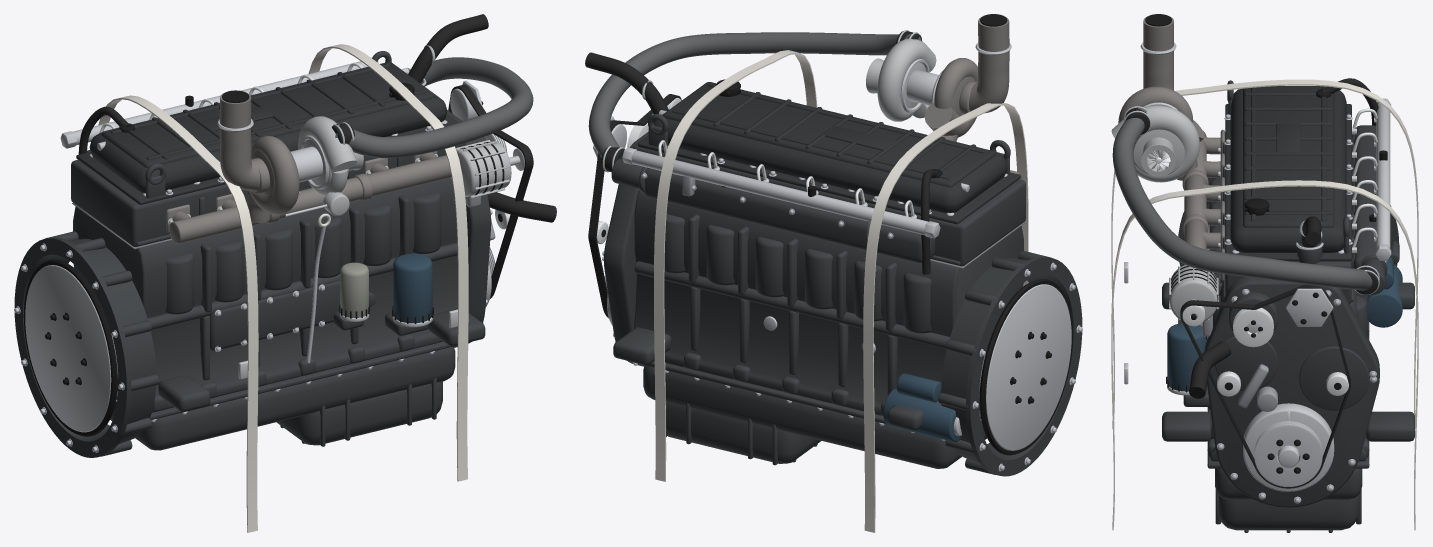
File: engine.glb
3 views of the same model, side by side, from view 1: azimuth 30°, elevation 25°; view 2: azimuth 150°, elevation 25°; view 3: azimuth 270°, elevation 25° (orthographic).
Visible parts, largest first — view 1: block, bell, cover, pan, wrap, turbo, head, front, pipe, exhaust, filters, fuel (+1 smaller); view 2: block, bell, cover, pan, wrap, turbo, intake, pipe, head, front, fuel; view 3: front, cover, pipe, turbo, damper, wrap, pan, block, exhaust, fuel, intake, head (+7 smaller).
Part boxes in pixels (x1=…): block: x1=73, y1=177, x2=485, y2=412; bell: x1=14, y1=231, x2=158, y2=457; cover: x1=76, y1=62, x2=458, y2=204; pan: x1=110, y1=341, x2=471, y2=450; wrap: x1=98, y1=44, x2=468, y2=532; turbo: x1=217, y1=90, x2=363, y2=216; head: x1=71, y1=14, x2=488, y2=246; front: x1=447, y1=84, x2=556, y2=347; pipe: x1=332, y1=57, x2=533, y2=158; exhaust: x1=166, y1=151, x2=451, y2=243; filters: x1=333, y1=253, x2=433, y2=335; fuel: x1=60, y1=57, x2=378, y2=148; block: x1=613, y1=190, x2=1023, y2=430; bell: x1=883, y1=250, x2=1082, y2=476; cover: x1=637, y1=79, x2=1020, y2=274; pan: x1=627, y1=360, x2=986, y2=468; wrap: x1=654, y1=50, x2=1028, y2=532; turbo: x1=866, y1=14, x2=1011, y2=137; intake: x1=611, y1=158, x2=935, y2=262; pipe: x1=588, y1=30, x2=922, y2=172; head: x1=585, y1=52, x2=1025, y2=266; front: x1=588, y1=94, x2=681, y2=366; fuel: x1=622, y1=140, x2=940, y2=239; front: x1=1169, y1=265, x2=1379, y2=507; cover: x1=1224, y1=78, x2=1378, y2=261; pipe: x1=1112, y1=106, x2=1379, y2=294; turbo: x1=1111, y1=14, x2=1204, y2=182; damper: x1=1243, y1=403, x2=1334, y2=491; wrap: x1=1111, y1=79, x2=1418, y2=530; pan: x1=1207, y1=320, x2=1369, y2=532; block: x1=1162, y1=178, x2=1414, y2=461; exhaust: x1=1177, y1=129, x2=1224, y2=280; fuel: x1=1352, y1=98, x2=1391, y2=260; intake: x1=1352, y1=125, x2=1387, y2=294; head: x1=1223, y1=80, x2=1354, y2=303.
Bounding box in the file's own units: 1.44 × 1.29 × 0.8758.
